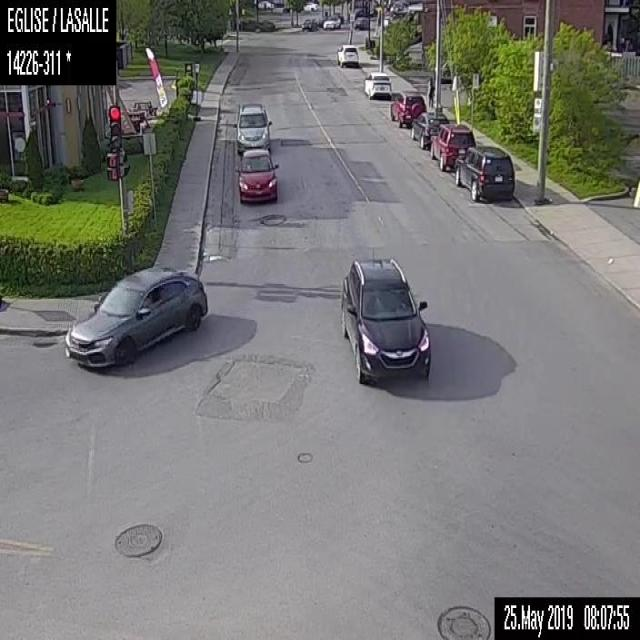pedestrian: (427, 75, 435, 105)
vehicle: (65, 261, 208, 367), (339, 254, 431, 386), (453, 142, 515, 201), (233, 144, 279, 203), (428, 120, 474, 172), (233, 100, 271, 152), (410, 110, 448, 148), (389, 88, 425, 128), (362, 69, 392, 99), (336, 42, 359, 66), (322, 14, 342, 30), (300, 17, 318, 32), (352, 16, 367, 29), (256, 0, 274, 9), (302, 1, 318, 10)
